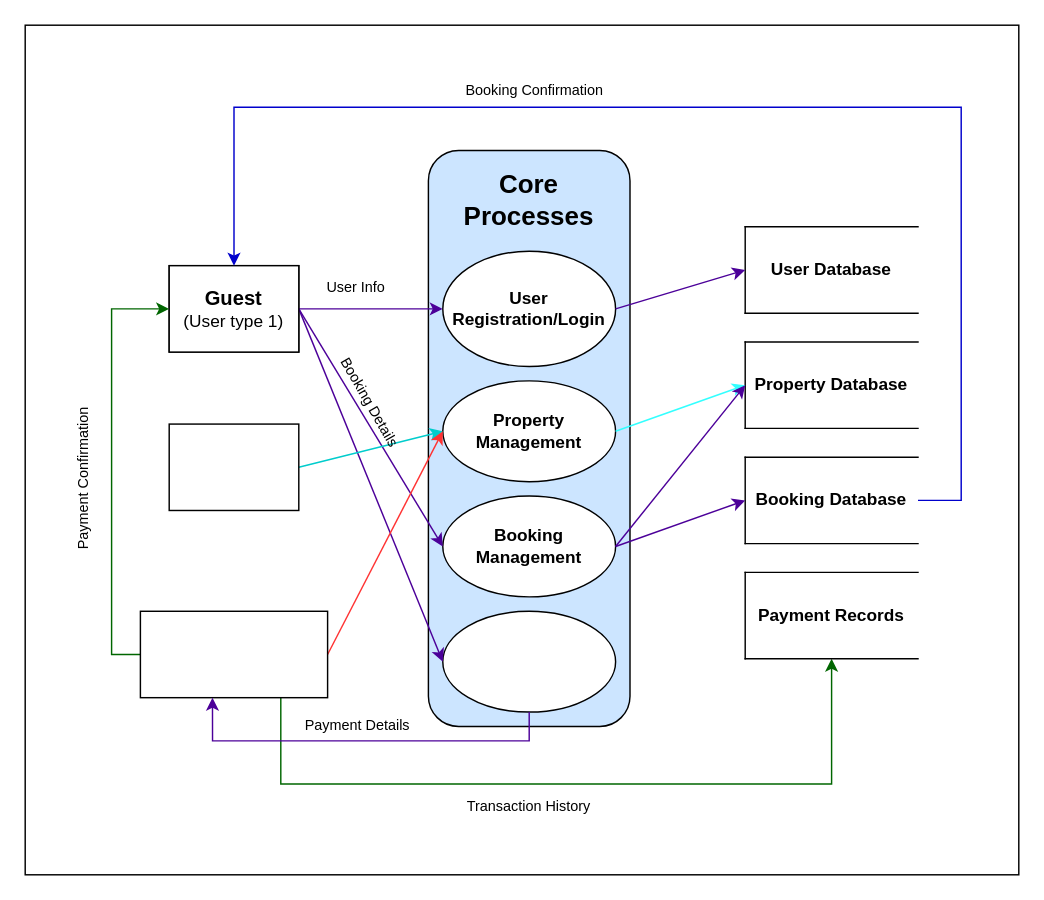
The diagram is 1044 pixels wide and 900 high, and some of its shapes have lost their labels. The shapes that lost their labels are listed below. From the top down, each one's box as (x1, y1, x2, y2) in pixels, then its label:
(168, 423, 299, 510): Host (User type 2)
(139, 610, 328, 698): Payment Gateway (Third party)
(441, 610, 616, 712): Payment Processing
